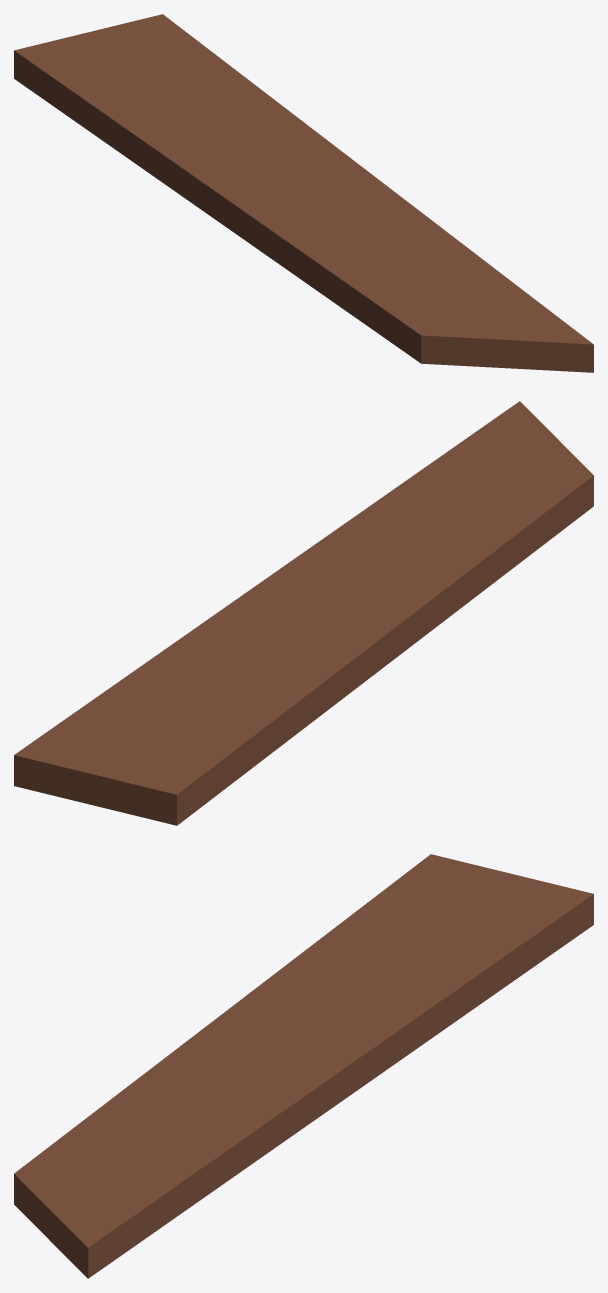
File: LPWarPack_Plank1.fbx
3 views of the same model, one above another, from view 1: azimuth 30°, elevation 25°; view 2: azimuth 150°, elevation 25°; view 3: azimuth 330°, elevation 25° (orthographic). The views are drawn at different scales.
Visible parts, largest first — view 1: Plank1; view 2: Plank1; view 3: Plank1.
Part boxes in pixels (x1,y1,x2,y2): Plank1: (14, 14, 593, 372); Plank1: (14, 401, 593, 825); Plank1: (14, 854, 593, 1278).
Size of the model in its own units: 17.18 by 3.12 by 89.25.
